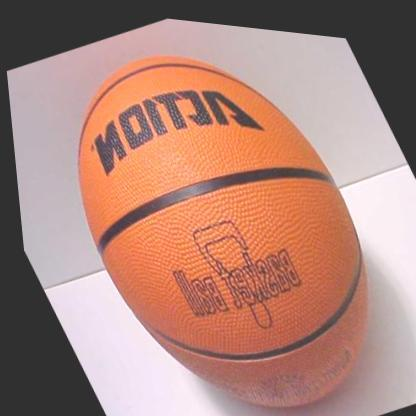basketball: (10, 1, 416, 416)
